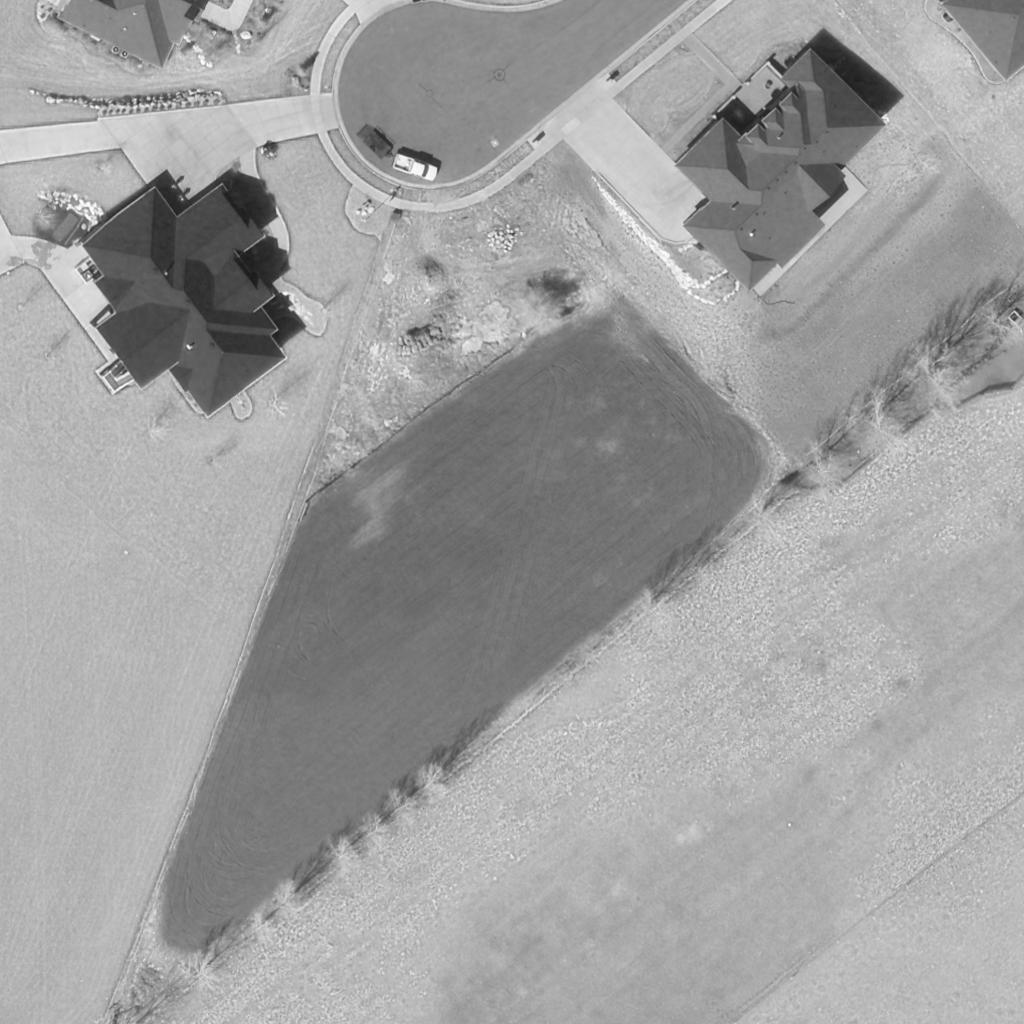vehicle: (392, 152, 440, 184)
